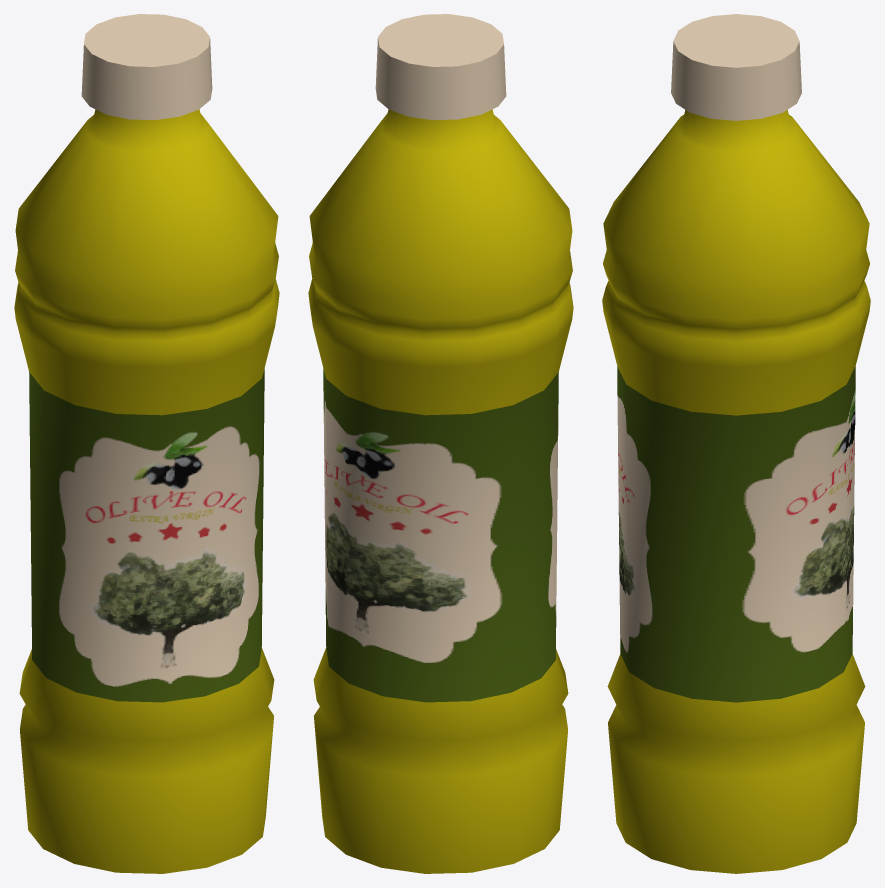
File: OliveOil.fbx
3 renders of one model, left to right at view 1: azimuth 30°, elevation 25°; view 2: azimuth 150°, elevation 25°; view 3: azimuth 270°, elevation 25°, orthographic.
Parts seen in each view (by area): view 1: OlliveOil; view 2: OlliveOil; view 3: OlliveOil.
Part boxes in pixels (x1,y1,x2,y2): OlliveOil: (14, 14, 279, 873); OlliveOil: (308, 14, 573, 873); OlliveOil: (602, 14, 870, 873).
Size of the model in its own units: 9.32 by 30.1 by 9.37.
